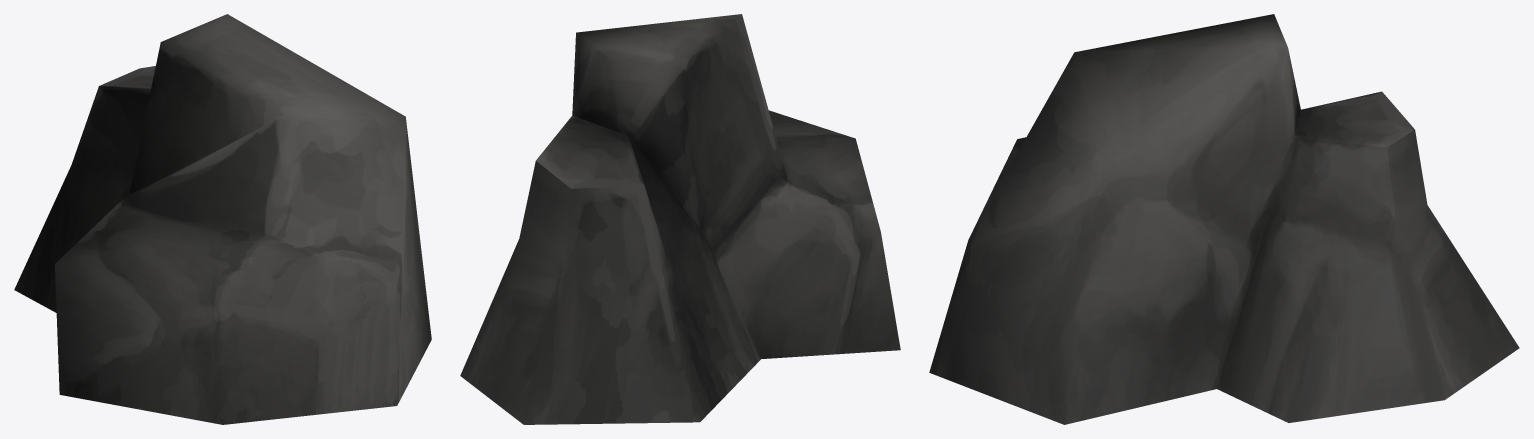
File: Rock_B.fbx
3 views of the same model, side by side, from view 1: azimuth 30°, elevation 25°; view 2: azimuth 150°, elevation 25°; view 3: azimuth 270°, elevation 25° (orthographic). The views are drawn at different scales.
Visible parts, largest first — view 1: Rock_B; view 2: Rock_B; view 3: Rock_B.
Boxes of the visible parts, bbox=[...] form: Rock_B: bbox=[14, 14, 431, 424]; Rock_B: bbox=[460, 14, 900, 424]; Rock_B: bbox=[929, 14, 1519, 424].
Size of the model in its own units: 127 by 101 by 170.
